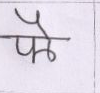au_matra: (27, 11, 59, 49)
